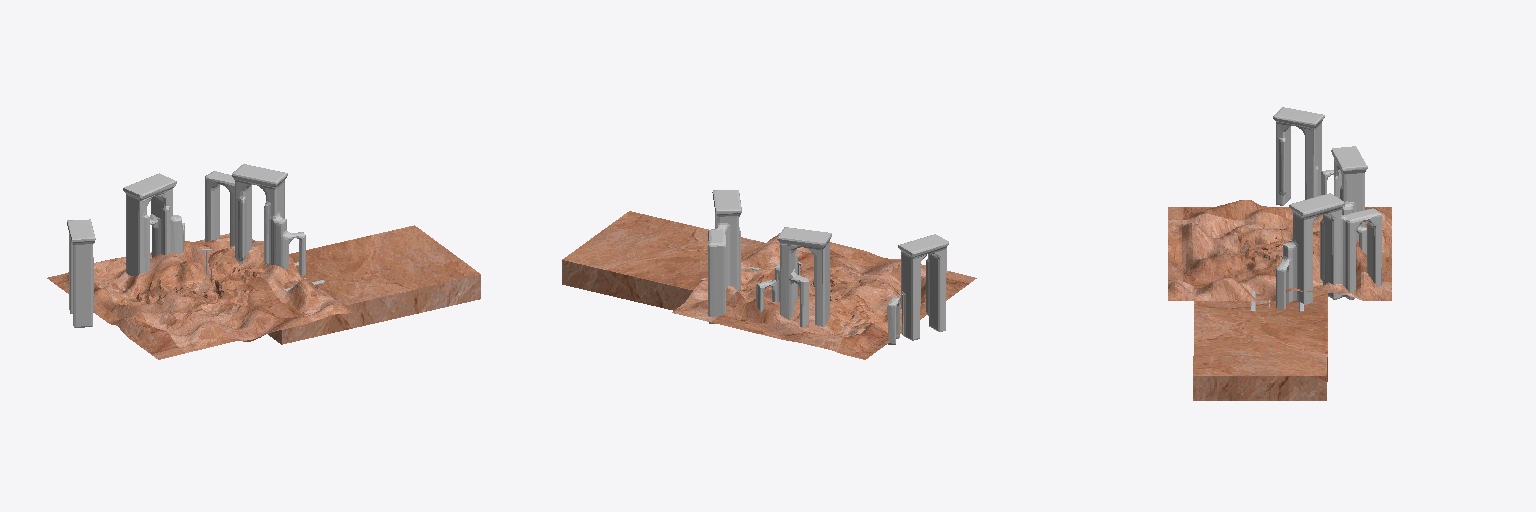
3 renders of one model, left to right at view 1: azimuth 30°, elevation 25°; view 2: azimuth 150°, elevation 25°; view 3: azimuth 270°, elevation 25°, orthographic.
Visible parts, largest first — view 1: Plane.001, Cube.010, Cube.007, Cube.008, Cube.009, Plane; view 2: Plane.001, Cube.010, Cube.009, Cube.008, Cube.007; view 3: Cube.010, Plane.001, Cube.007, Cube.009, Cube.008, Plane.
Part boxes in pixels (x1,y1,x2,y2): Plane.001: (47,233,351,359); Cube.010: (268,225,480,344); Cube.007: (205,164,305,275); Cube.008: (123,173,184,275); Cube.009: (67,219,95,327); Plane: (172,275,247,311); Plane.001: (672,233,976,359); Cube.010: (562,211,813,310); Cube.009: (887,234,948,344); Cube.008: (756,227,831,326); Cube.007: (708,190,741,323); Cube.010: (1193,276,1327,400); Plane.001: (1168,200,1391,303); Cube.007: (1276,193,1381,309); Cube.009: (1273,107,1333,205); Cube.008: (1331,146,1367,254); Plane: (1241,240,1291,271).
Bounding box in the file's own units: 377 × 127 × 201.
Materials: 3 (2 with a texture image).